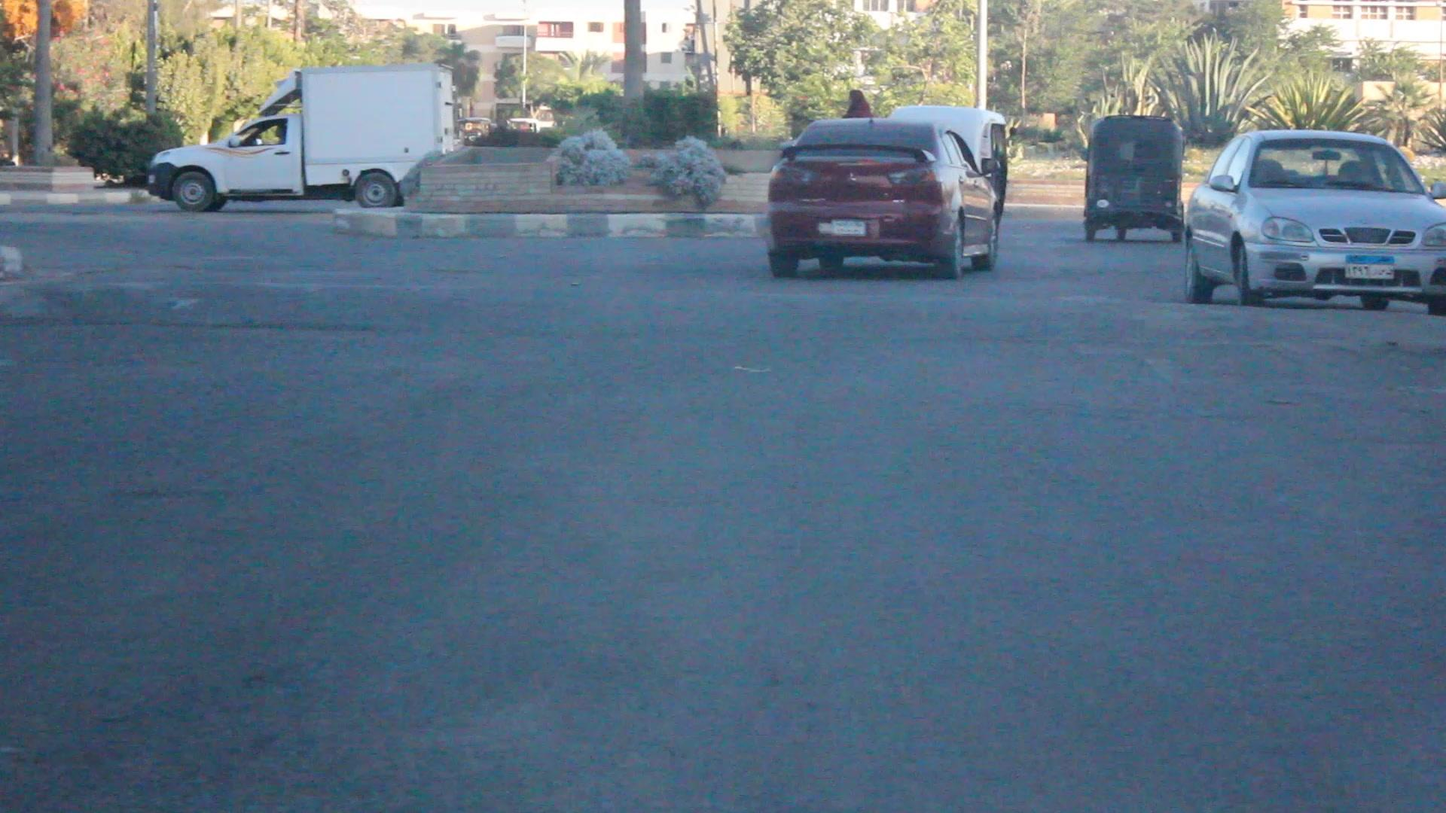Bump: (8, 282, 1445, 363)
